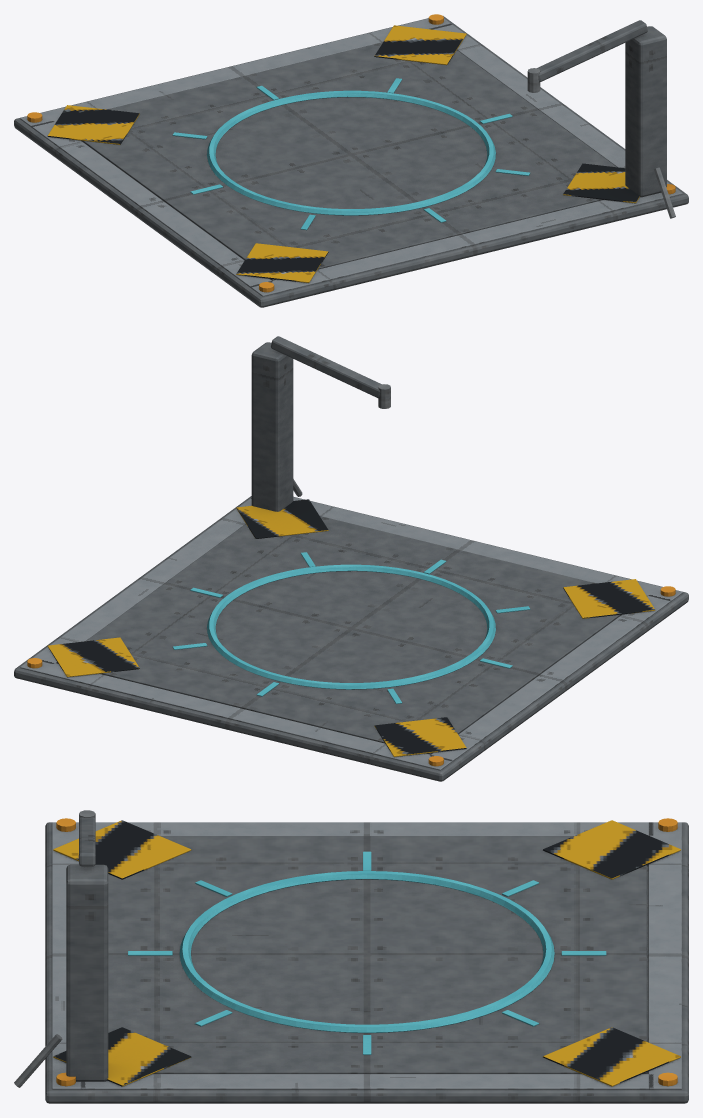
Rendered from base_drone_pad.glb.
3 renders of one model, top to bottom at view 1: azimuth 30°, elevation 25°; view 2: azimuth 150°, elevation 25°; view 3: azimuth 270°, elevation 25°, orthographic. The views are drawn at different scales.
Parts seen in each view (by area): view 1: base_drone_pad; view 2: base_drone_pad; view 3: base_drone_pad.
Boxes of the visible parts, x1,y1,x2,y2 form: base_drone_pad: [14, 14, 688, 307]; base_drone_pad: [14, 336, 688, 781]; base_drone_pad: [14, 810, 688, 1103].
Bounding box in the file's own units: 4.6 × 1.83 × 4.82.
Materials: 5 (5 with a texture image).
